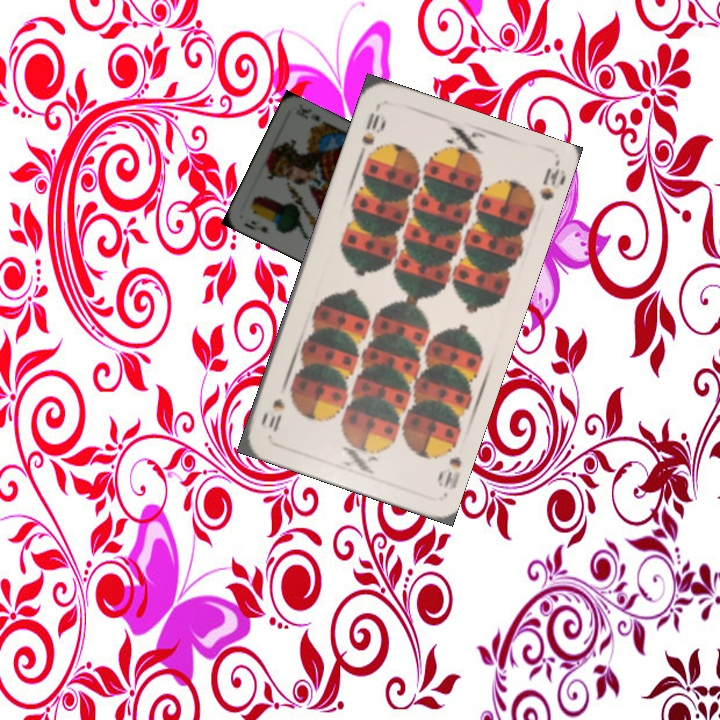EK: (240, 216, 271, 235)
S10: (433, 437, 465, 493), (357, 108, 386, 148)
